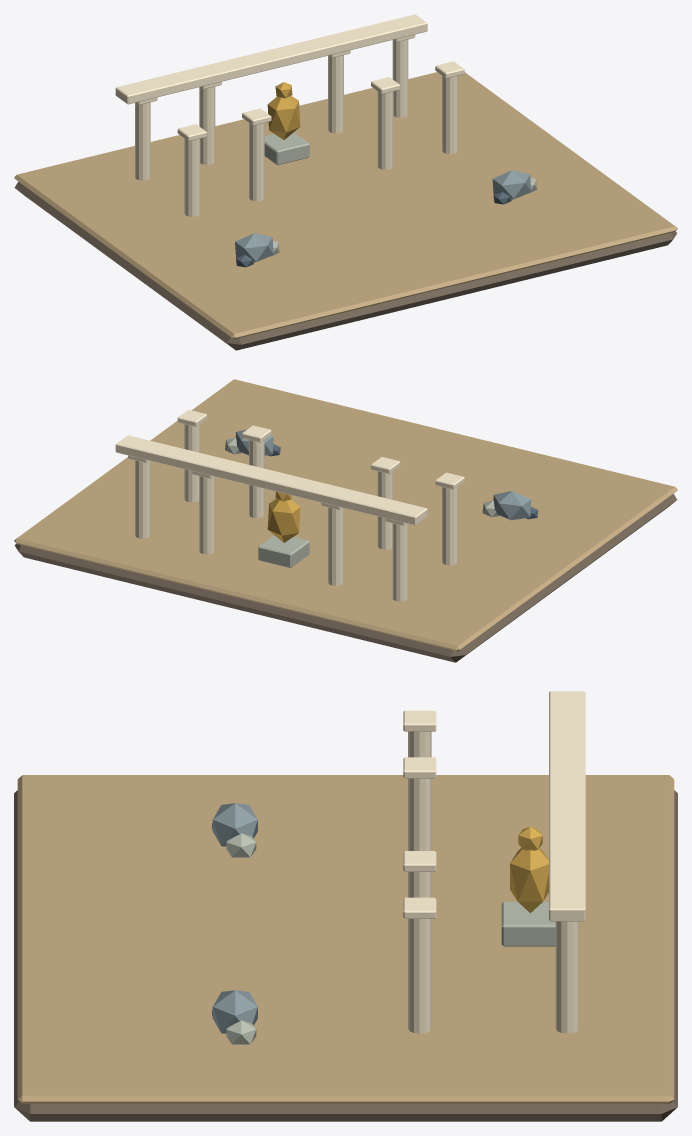
Rendered from world-temple.glb.
3 views of the same model, one above another, from view 1: azimuth 30°, elevation 25°; view 2: azimuth 150°, elevation 25°; view 3: azimuth 270°, elevation 25° (orthographic). The views are drawn at different scales.
Visible parts, largest first — view 1: terrain-top, terrain-stratum, temple-lintel, marble-column.004, marble-column, marble-column.001, marble-column.005, marble-column.002, marble-column.006, marble-column.003, marble-column.007, sculpture.001 (+3 smaller); view 2: terrain-top, terrain-stratum, temple-lintel, marble-column.001, marble-column.005, plinth.001, marble-column, marble-column.007, marble-column.003, sculpture.001, marble-column.002, marble-column.006 (+2 smaller); view 3: terrain-top, terrain-stratum, temple-lintel, marble-column.006, marble-column.007, plinth.001, sculpture.001, marble-column.002, rock.003, rock.006, capital, capital.006 (+3 smaller).
Boxes of the visible parts, x1,y1,x2,y2 form: terrain-top: [14, 72, 677, 339]; terrain-stratum: [14, 182, 677, 350]; temple-lintel: [115, 14, 427, 104]; marble-column.004: [377, 91, 393, 169]; marble-column: [184, 138, 200, 216]; marble-column.001: [135, 102, 150, 180]; marble-column.005: [328, 55, 343, 133]; marble-column.002: [249, 123, 264, 201]; marble-column.006: [442, 75, 457, 153]; marble-column.003: [199, 86, 215, 164]; marble-column.007: [392, 39, 408, 117]; sculpture.001: [267, 95, 300, 139]; terrain-top: [14, 379, 677, 651]; terrain-stratum: [14, 494, 677, 662]; temple-lintel: [115, 435, 427, 525]; marble-column.001: [392, 523, 408, 601]; marble-column.005: [199, 476, 215, 554]; plinth.001: [258, 535, 309, 567]; marble-column: [442, 487, 457, 565]; marble-column.007: [135, 460, 150, 538]; marble-column.003: [328, 507, 343, 585]; sculpture.001: [267, 498, 300, 542]; marble-column.002: [377, 471, 393, 549]; marble-column.006: [184, 424, 200, 502]; terrain-top: [17, 775, 674, 1103]; terrain-stratum: [14, 790, 677, 1121]; temple-lintel: [549, 691, 585, 921]; marble-column.006: [408, 919, 431, 1033]; marble-column.007: [555, 921, 578, 1033]; plinth.001: [501, 902, 555, 946]; sculpture.001: [510, 848, 548, 913]; marble-column.002: [408, 778, 431, 850]; rock.003: [212, 803, 257, 846]; rock.006: [212, 990, 257, 1033]; capital: [403, 710, 436, 731]; capital.006: [403, 897, 436, 918].
Size of the model in its own units: 21 by 4.94 by 18.
